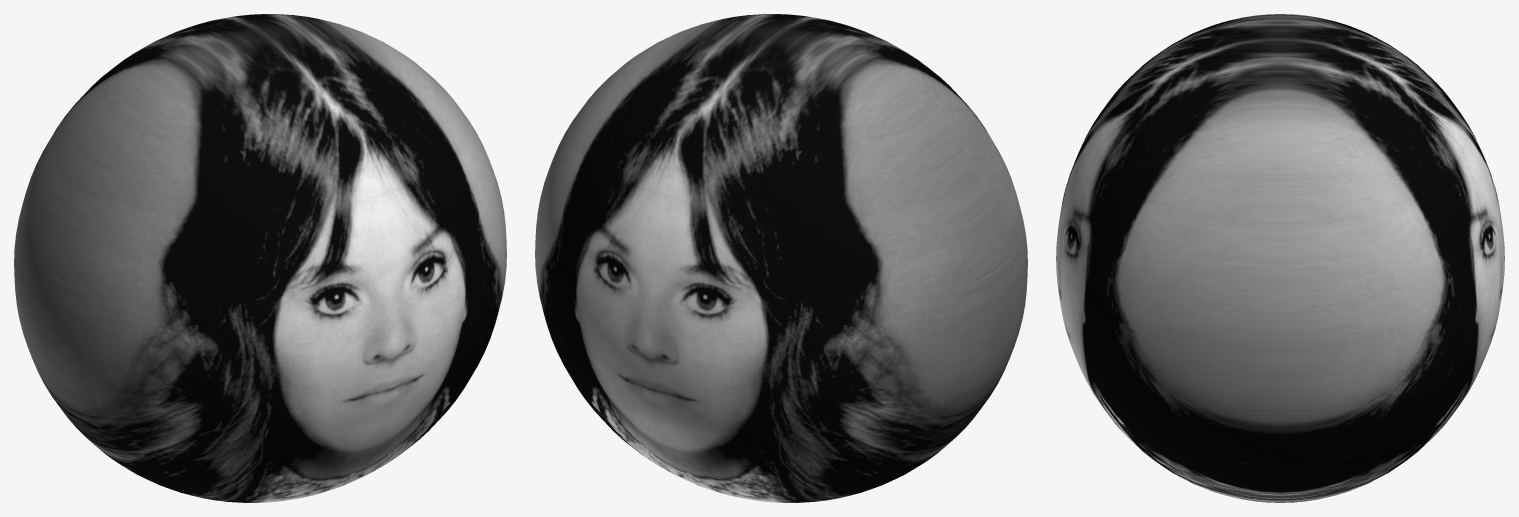
3 renders of one model, left to right at view 1: azimuth 30°, elevation 25°; view 2: azimuth 150°, elevation 25°; view 3: azimuth 270°, elevation 25°, orthographic.
Parts seen in each view (by area): view 1: head; view 2: head; view 3: head.
Part boxes in pixels (<box>): head: <box>14,14,506,502</box>; head: <box>535,14,1027,502</box>; head: <box>1056,14,1504,502</box>.
Size of the model in its own units: 2.05 by 2 by 1.84.
Materials: 1 (1 with a texture image).
